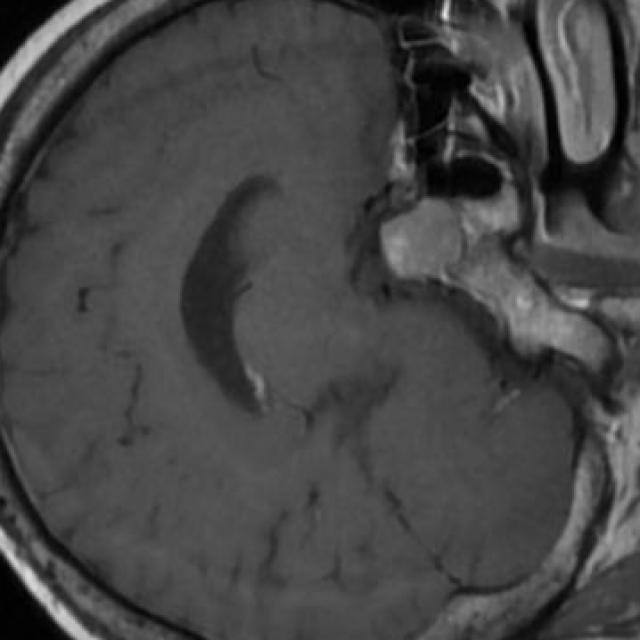pituitary: (378, 198, 465, 280)
